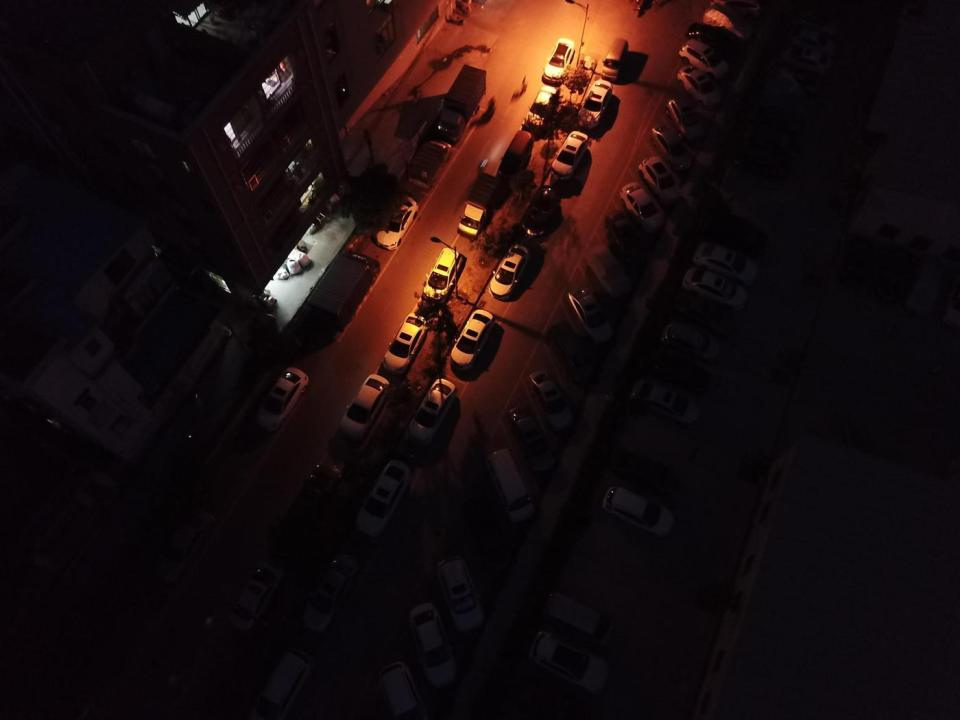car: (275, 464, 342, 550), (149, 504, 219, 584), (296, 550, 361, 636), (528, 628, 611, 694), (354, 458, 412, 539), (406, 601, 458, 685), (629, 374, 704, 430), (601, 484, 676, 538), (229, 558, 280, 636), (437, 554, 485, 634), (255, 365, 310, 432), (403, 378, 456, 447), (507, 403, 557, 475), (341, 374, 391, 441), (691, 241, 763, 286), (527, 368, 574, 432), (679, 266, 750, 308), (448, 308, 495, 370), (384, 311, 430, 373), (660, 321, 724, 365), (583, 244, 633, 300), (603, 208, 648, 270), (566, 286, 614, 342), (619, 182, 667, 235), (375, 194, 418, 250), (488, 244, 531, 300), (651, 120, 694, 176), (684, 20, 740, 62), (676, 64, 724, 109), (638, 154, 680, 204), (679, 39, 730, 80), (424, 246, 461, 302), (523, 184, 560, 240), (550, 130, 589, 182), (701, 2, 751, 42), (522, 84, 561, 132), (665, 96, 704, 142), (580, 78, 614, 130), (542, 37, 577, 85)
truck: (436, 64, 488, 142), (457, 171, 501, 241), (407, 138, 454, 188)
van: (249, 642, 317, 720), (545, 591, 624, 650), (486, 446, 537, 526), (546, 320, 594, 388), (376, 661, 429, 720), (500, 130, 535, 174), (600, 37, 630, 81)
